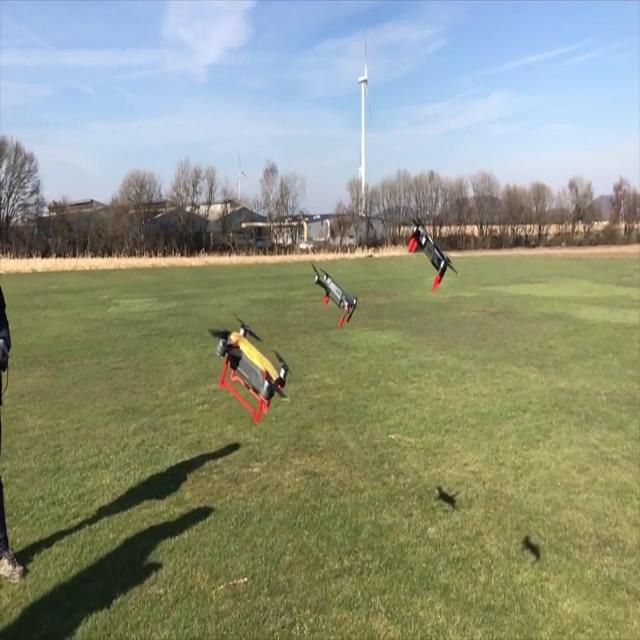UAV: (208, 314, 292, 425), (408, 216, 460, 292), (311, 263, 359, 328)
